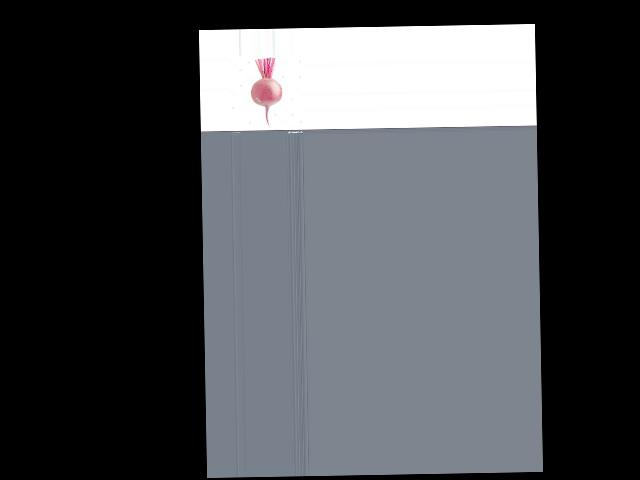beet: (250, 57, 282, 128)
